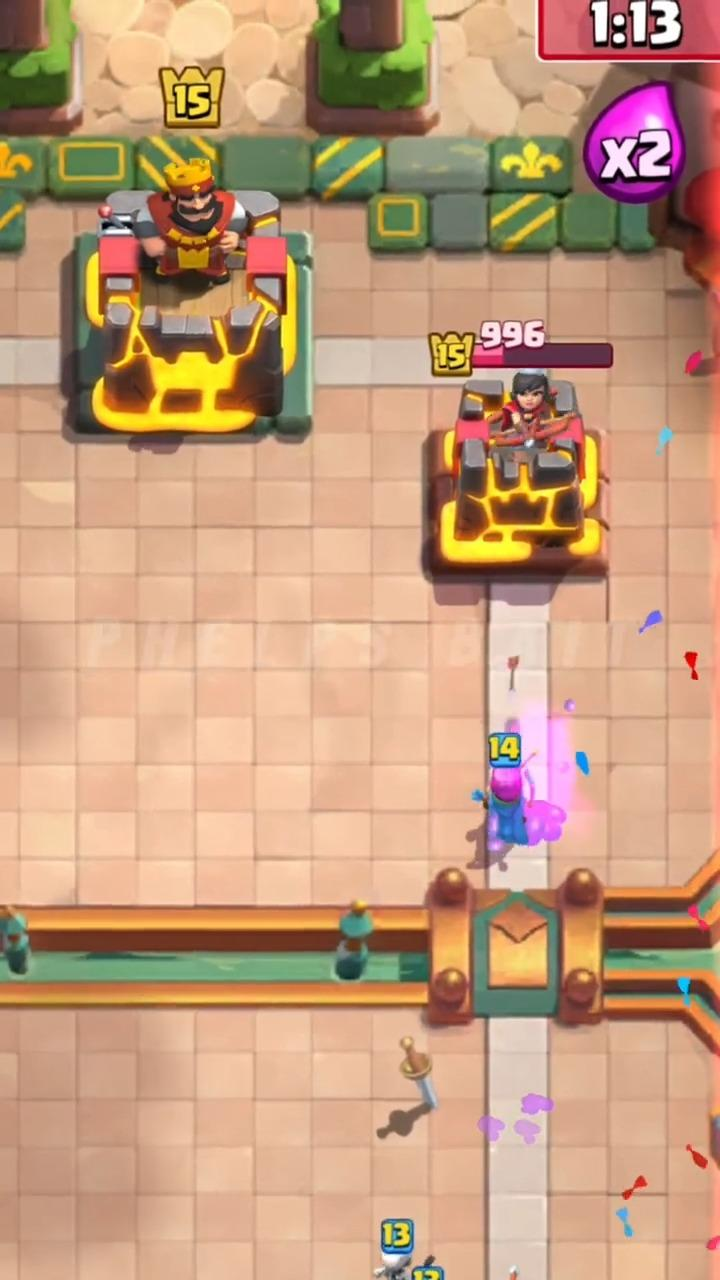archer: (473, 735, 534, 849)
skeleton: (374, 1250, 411, 1279)
